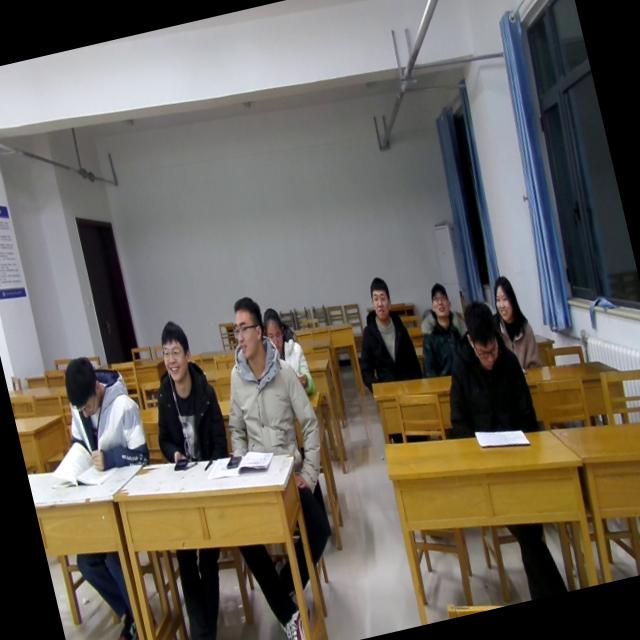down: (452, 292, 508, 380), (53, 346, 109, 424), (258, 302, 288, 353)
lookup: (148, 314, 200, 385), (222, 288, 270, 361), (484, 268, 526, 332), (360, 270, 398, 322), (422, 275, 456, 321)
sit: (197, 284, 327, 469), (423, 290, 541, 449), (130, 313, 234, 474), (49, 346, 152, 486), (339, 271, 425, 392), (404, 276, 478, 382), (483, 270, 546, 378), (258, 298, 319, 406)
